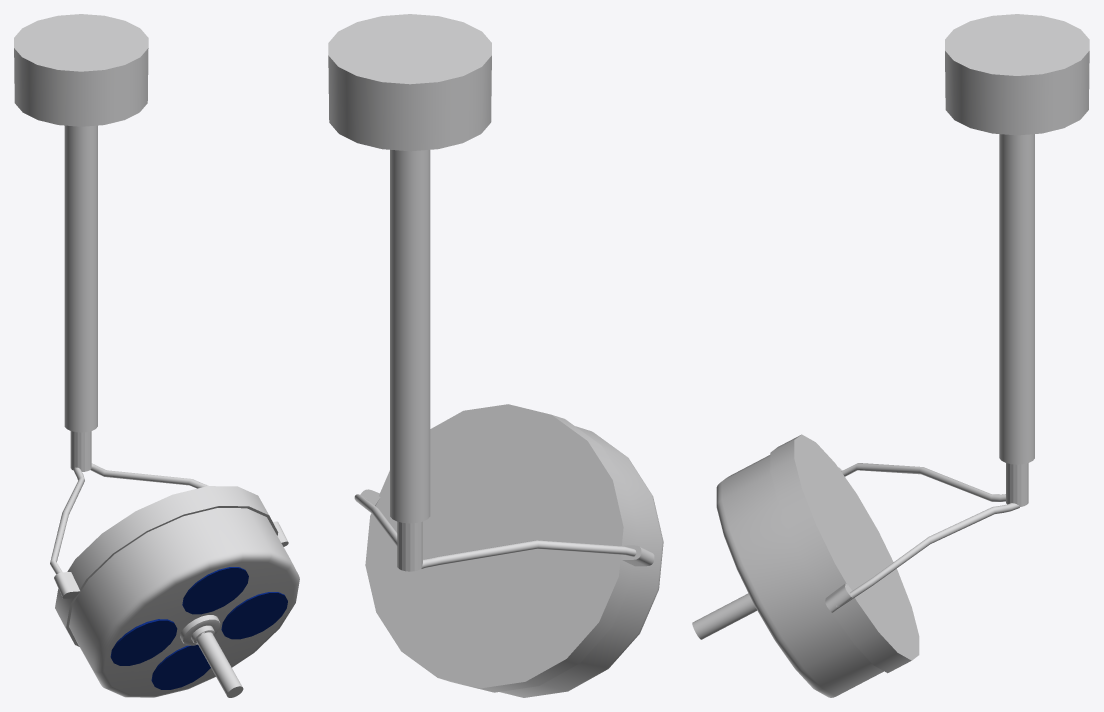
The model's file is LightFixtureFin.fbx.
3 renders of one model, left to right at view 1: azimuth 30°, elevation 25°; view 2: azimuth 150°, elevation 25°; view 3: azimuth 270°, elevation 25°, orthographic. The views are drawn at different scales.
Parts seen in each view (by area): view 1: Light, Cylinder006, Cylinder005, Cylinder004, Cylinder002, Cylinder003, Line, Box002; view 2: Light, Cylinder006, Line; view 3: Light, Cylinder006, Line.
Boxes of the visible parts, bbox=[...] form: Light: bbox=[55, 486, 299, 697]; Cylinder006: bbox=[14, 14, 148, 471]; Cylinder005: bbox=[221, 592, 287, 639]; Cylinder004: bbox=[182, 567, 248, 614]; Cylinder002: bbox=[110, 619, 177, 665]; Cylinder003: bbox=[151, 644, 210, 689]; Line: bbox=[50, 463, 208, 574]; Box002: bbox=[54, 572, 80, 598]; Light: bbox=[365, 404, 663, 697]; Cylinder006: bbox=[328, 14, 491, 571]; Line: bbox=[354, 494, 636, 568]; Light: bbox=[692, 434, 919, 697]; Cylinder006: bbox=[945, 14, 1089, 506]; Line: bbox=[836, 463, 1019, 609].
Size of the model in its own units: 0.8657 by 2.13 by 1.21.
